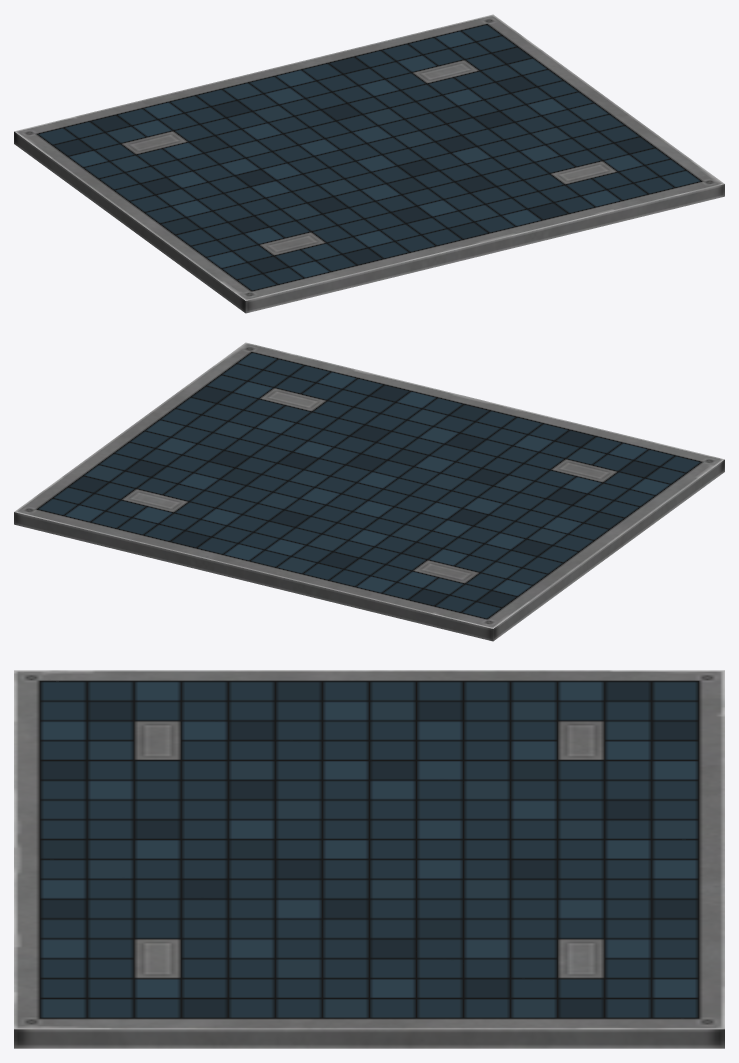
Rendered from big_solar.obj.
3 views of the same model, one above another, from view 1: azimuth 30°, elevation 25°; view 2: azimuth 150°, elevation 25°; view 3: azimuth 270°, elevation 25° (orthographic). The views are drawn at different scales.
Parts seen in each view (by area): view 1: 1; view 2: 1; view 3: 1.
Part boxes in pixels (x1,y1,x2,y2): 1: (14, 14, 724, 313); 1: (14, 342, 724, 641); 1: (14, 670, 724, 1048).
Size of the model in its own units: 1 by 0.025 by 0.8375.
1 material, 1 textured.
